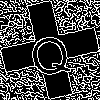Q: (25, 25, 74, 81)
